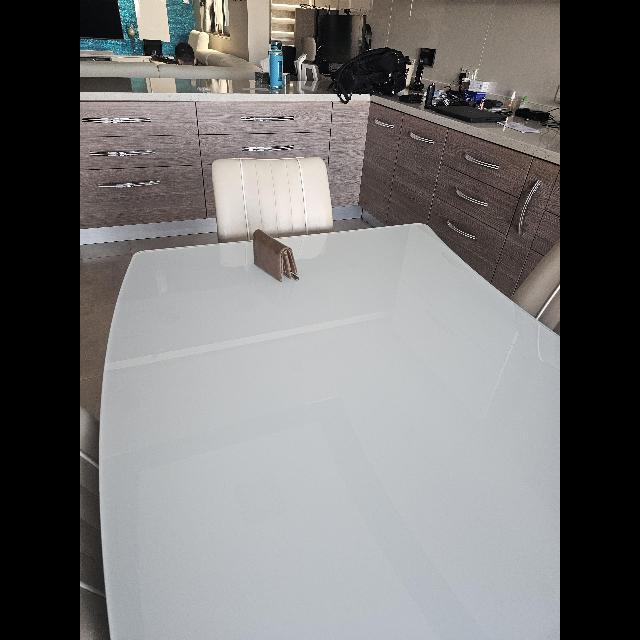Wallet: (252, 229, 300, 281), (403, 94, 423, 102)
